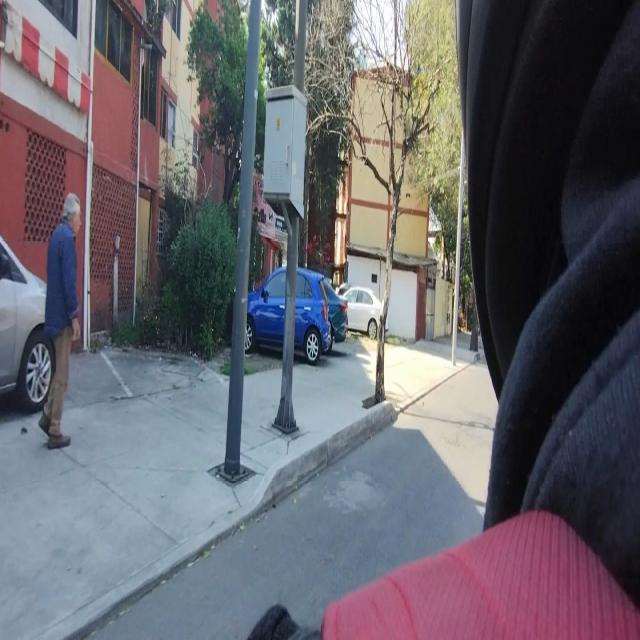adult: (40, 188, 82, 454)
